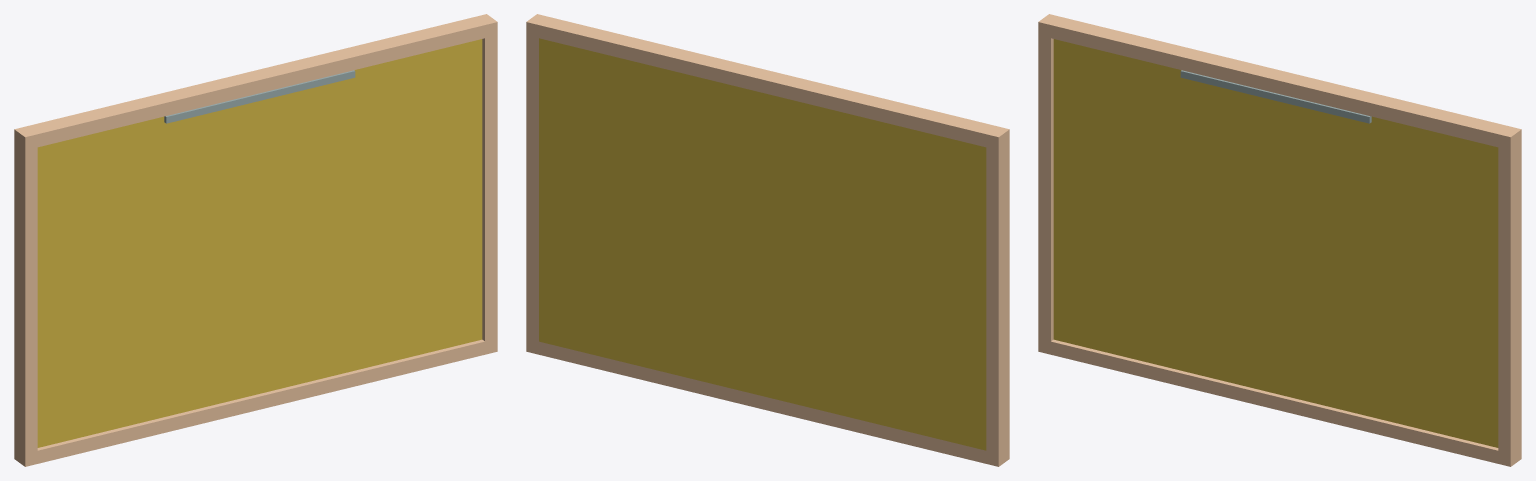
Rendered from objective-board.glb.
3 views of the same model, side by side, from view 1: azimuth 30°, elevation 25°; view 2: azimuth 150°, elevation 25°; view 3: azimuth 330°, elevation 25° (orthographic).
Parts seen in each view (by area): view 1: objective-board; view 2: objective-board; view 3: objective-board.
Part boxes in pixels (x1,y1,x2,y2): objective-board: (14, 14, 497, 466); objective-board: (526, 14, 1009, 466); objective-board: (1038, 14, 1521, 466).
Size of the model in its own units: 1.5 by 1 by 0.0601.
